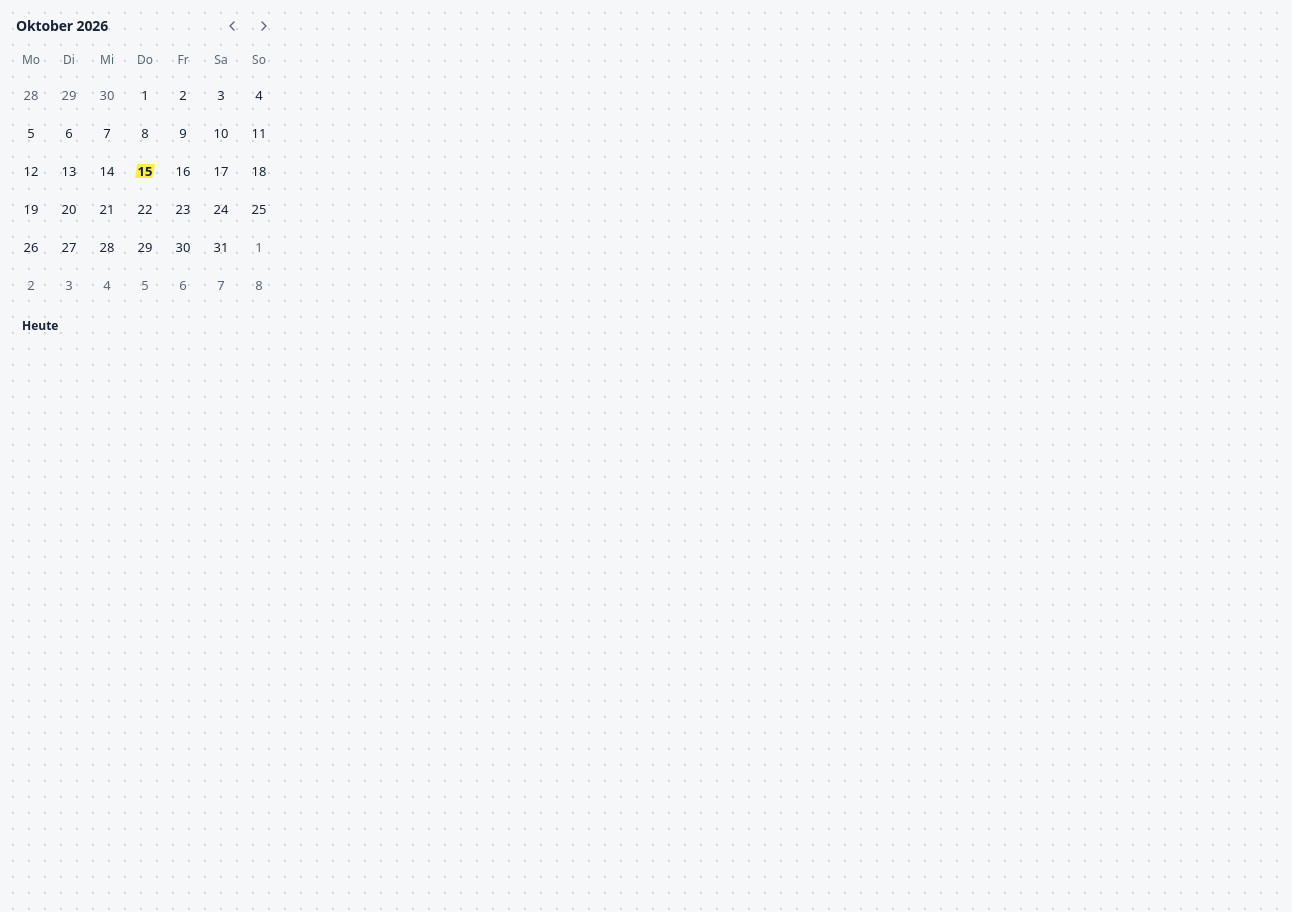
Test: Calendar › the month buttons page by month and keep the focus on themselves
The image size is (1292, 912).
Click the button named "Nächster Monat".
click(264, 26)  # box [250, 12, 278, 40]
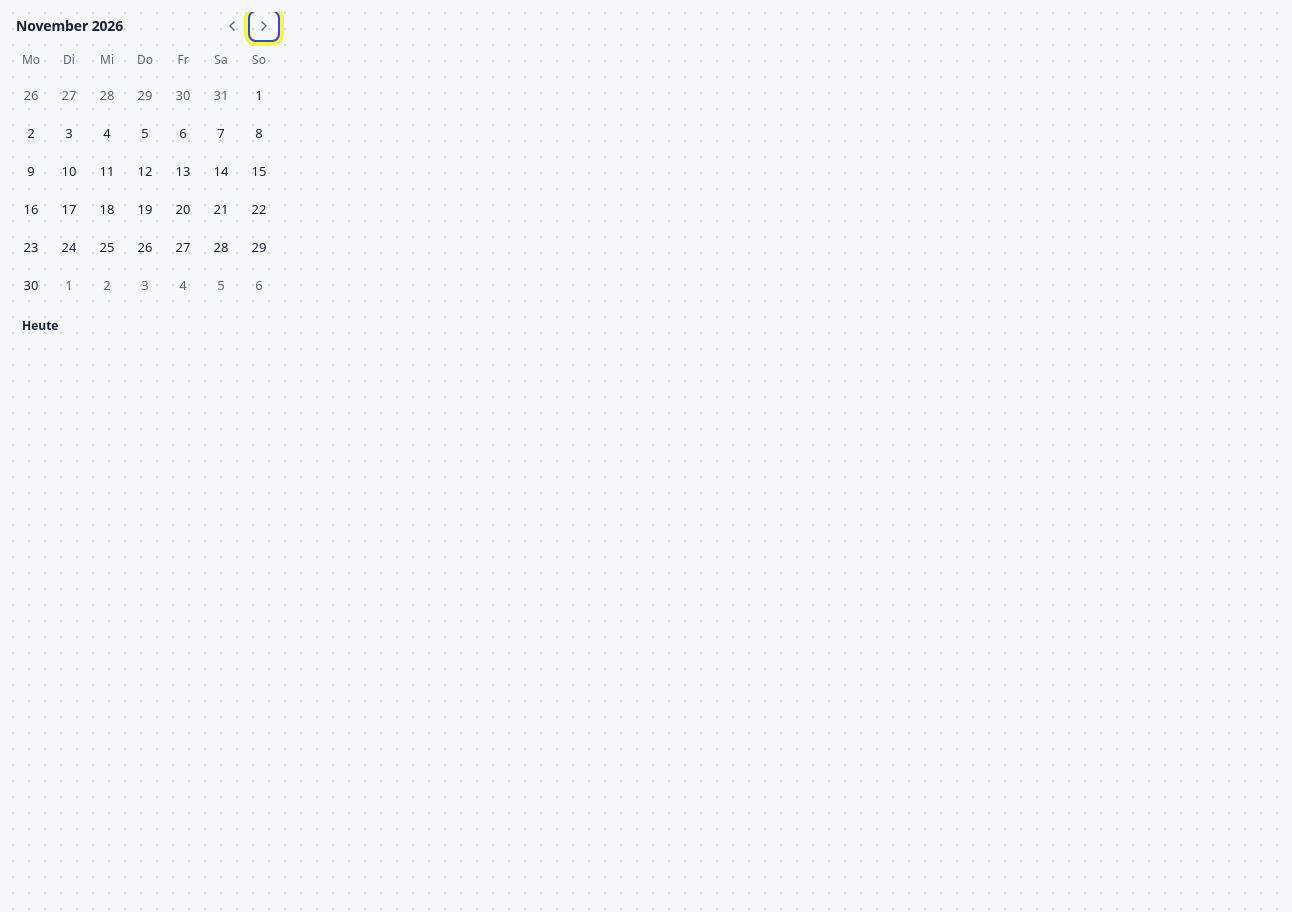
Check: the text "November 2026" is shown, box [16, 16, 123, 35]
Click the button named "Voriger Monat".
click(232, 26)  # box [218, 12, 246, 40]
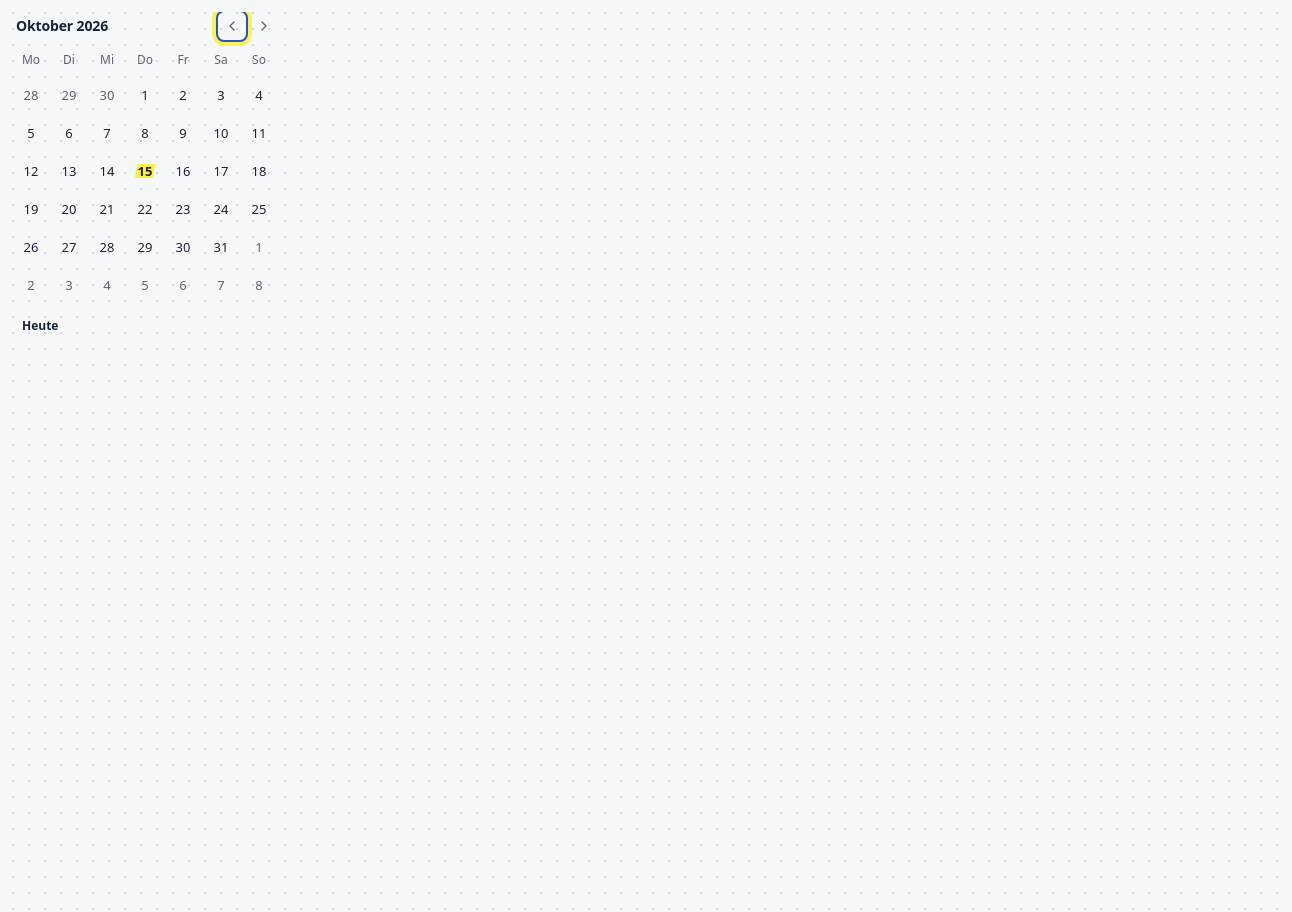
Click the button named "Voriger Monat".
click(232, 26)  # box [218, 12, 246, 40]
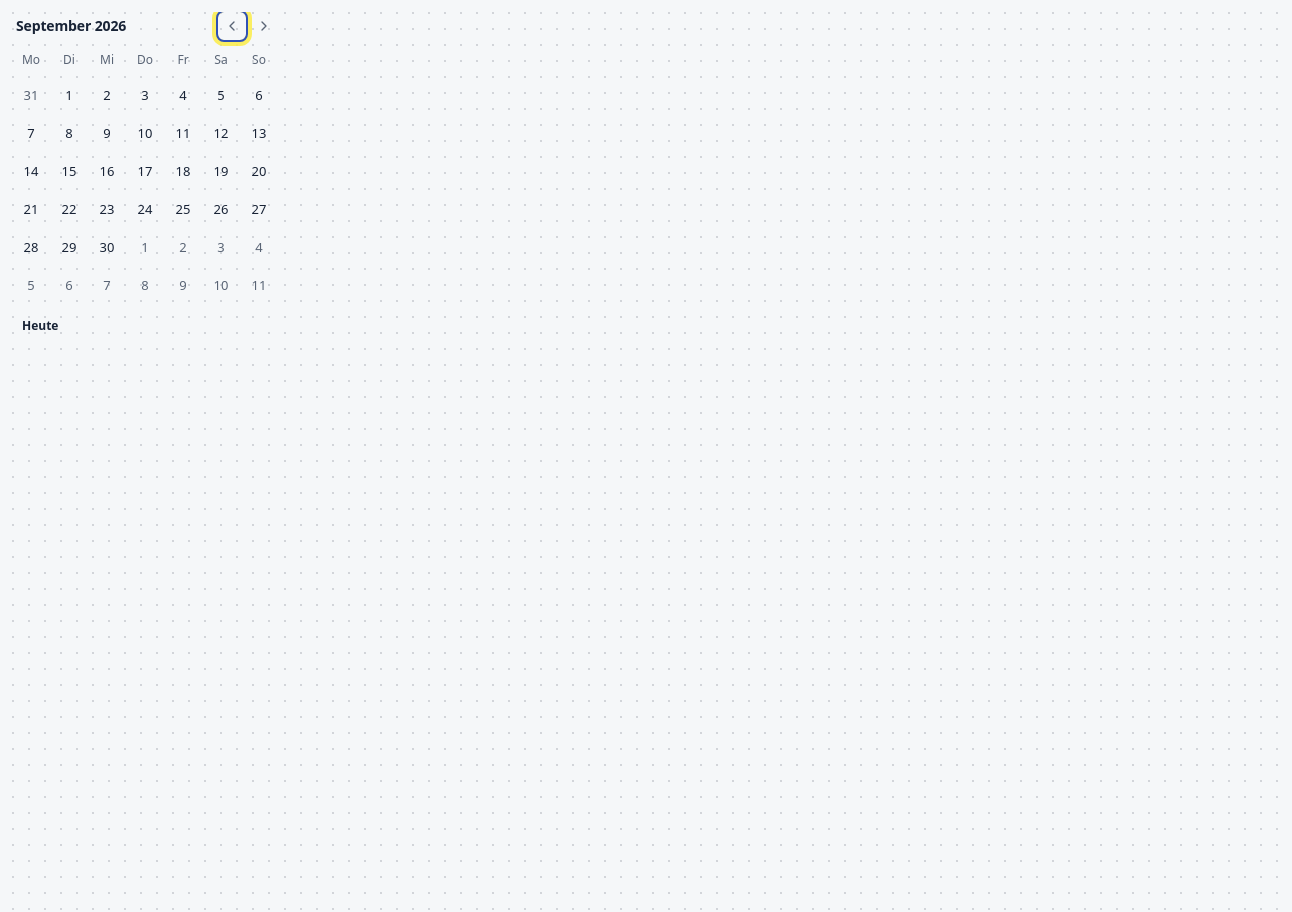
Check: the text "September 2026" is shown, box [16, 16, 126, 35]
